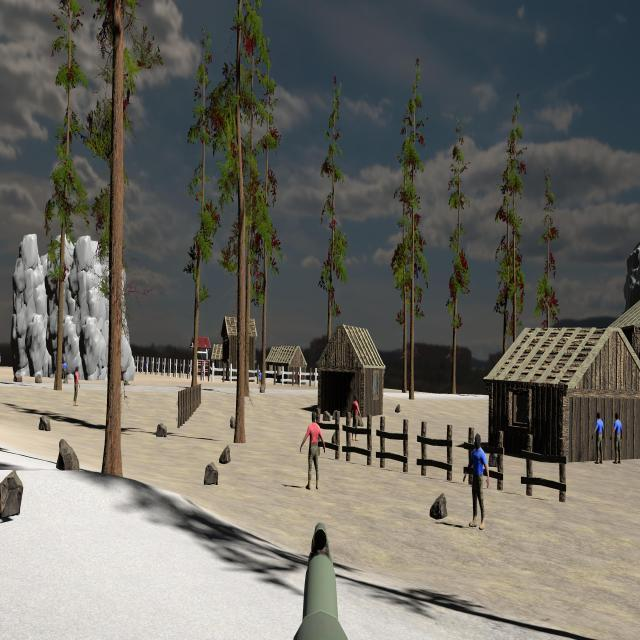Human: (463, 435, 489, 529), (300, 411, 325, 491), (300, 411, 325, 490), (592, 411, 605, 464), (612, 411, 624, 464), (350, 393, 362, 441)
